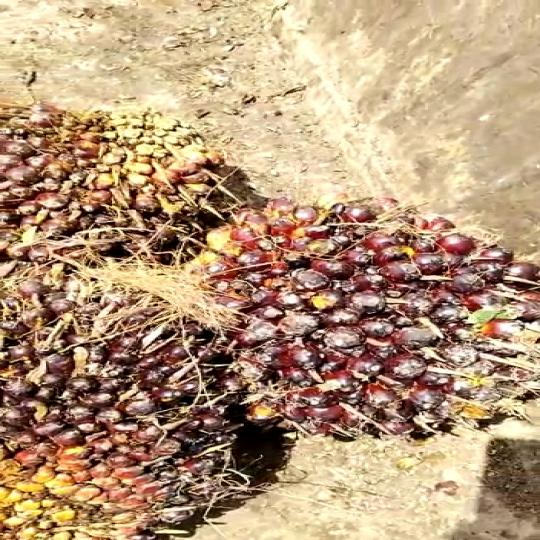kurang masak: (193, 184, 540, 439), (0, 260, 282, 540), (0, 91, 253, 277)
